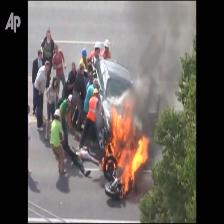fire: (104, 98, 160, 196)
smoke: (129, 0, 193, 125)
